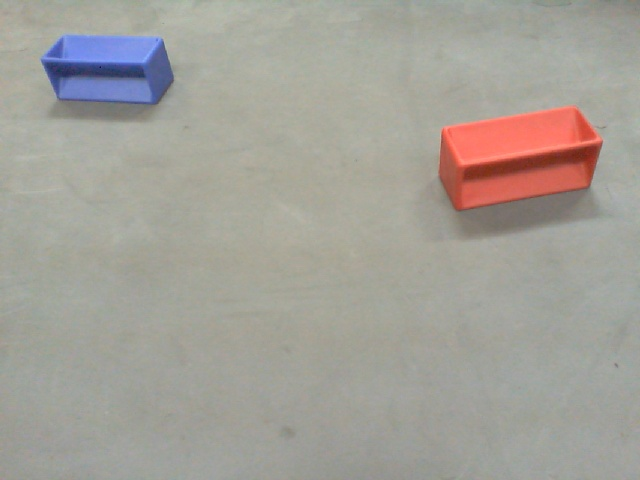BlueSample: (39, 32, 174, 103)
RedSample: (436, 104, 607, 213)
